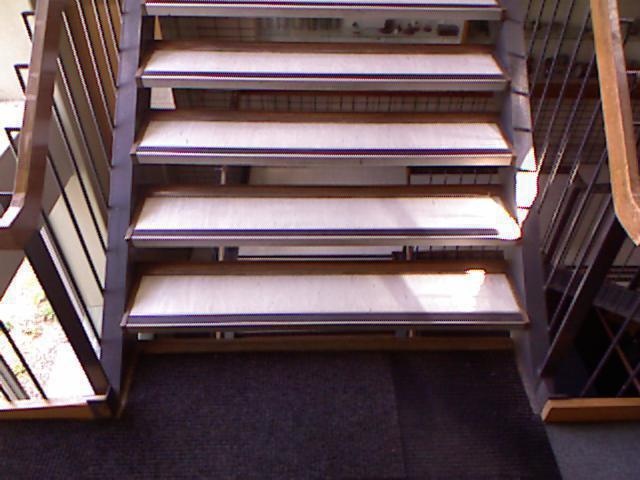Escaleras: (112, 12, 532, 385), (548, 251, 639, 341)
